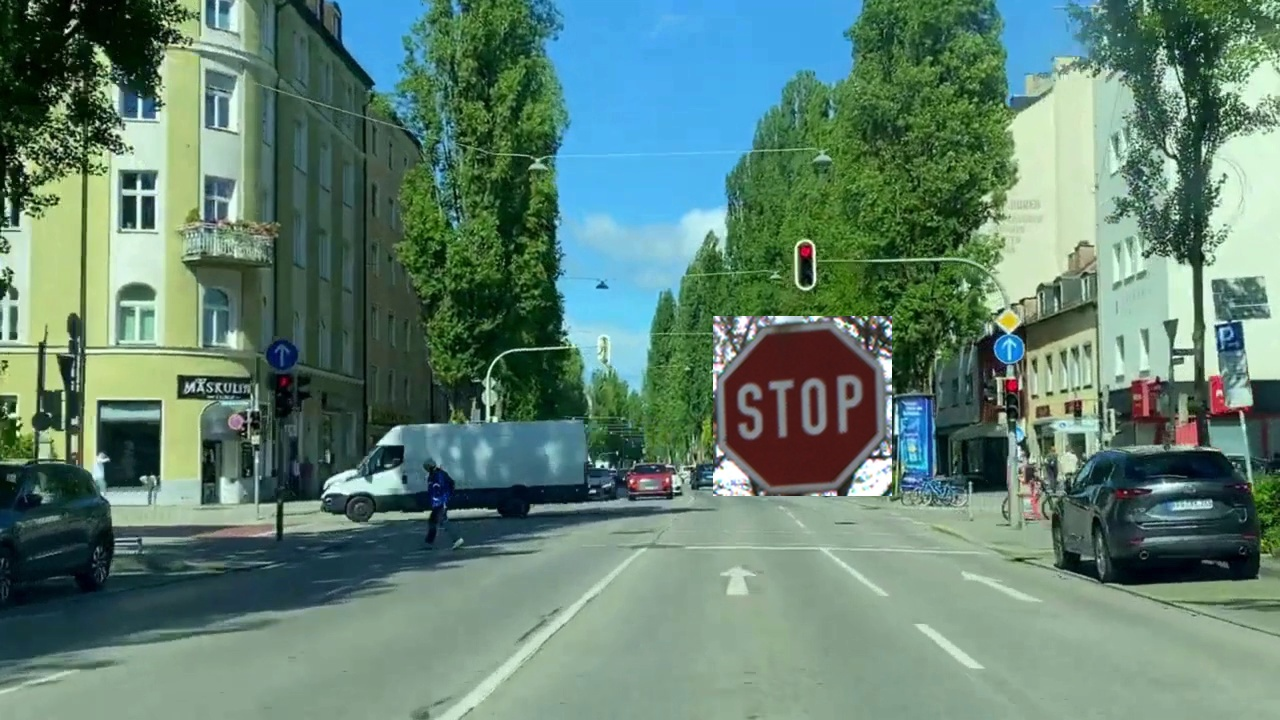Stop: (713, 316, 892, 496)
